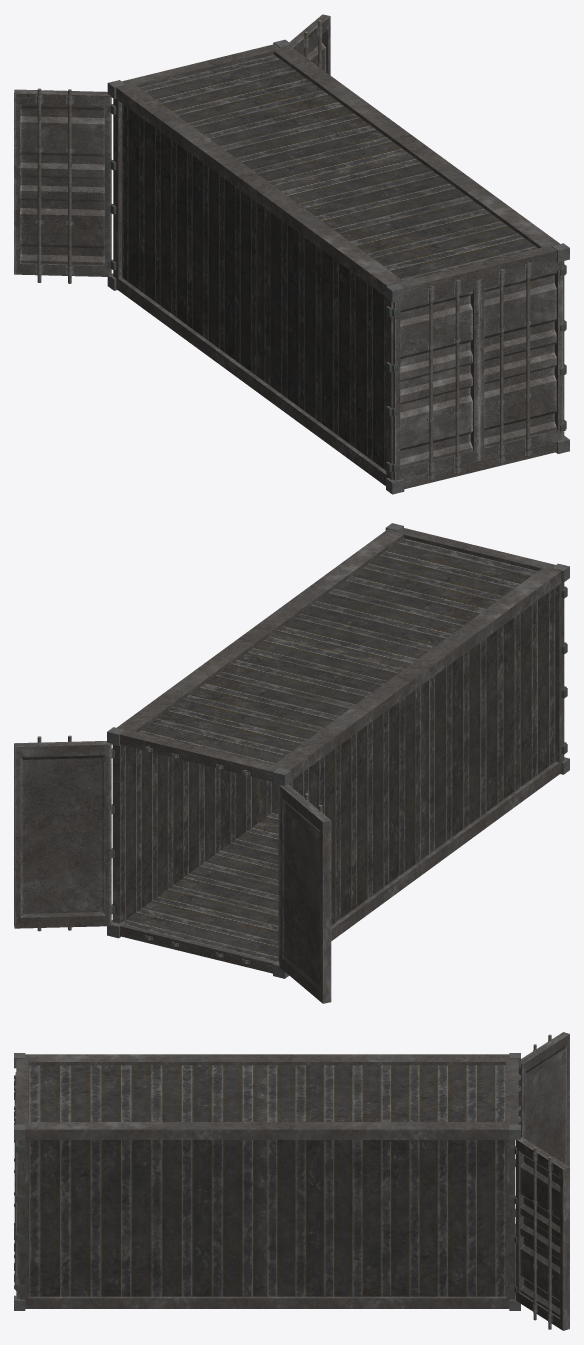
The model's file is storage_crate02.fbx.
The picture shows the model from 3 angles, top to bottom: view 1: azimuth 30°, elevation 25°; view 2: azimuth 150°, elevation 25°; view 3: azimuth 270°, elevation 25°; orthographic projection. The views are drawn at different scales.
Visible parts, largest first — view 1: storage_crate02; view 2: storage_crate02; view 3: storage_crate02.
Part boxes in pixels (box(x1,y1,x2,y2)): storage_crate02: box(14, 14, 569, 494); storage_crate02: box(14, 523, 569, 1003); storage_crate02: box(14, 1032, 569, 1330).
Bounding box in the file's own units: 460 × 283 × 786.
